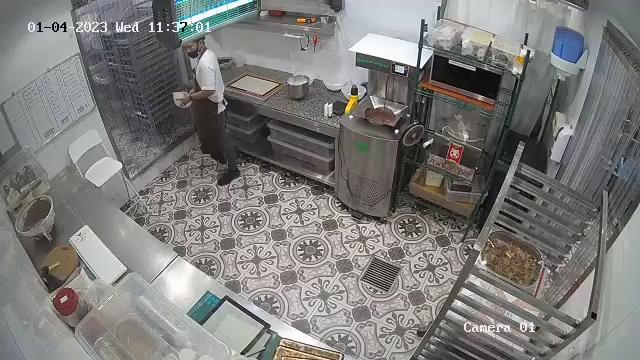apron: (191, 49, 220, 136)
